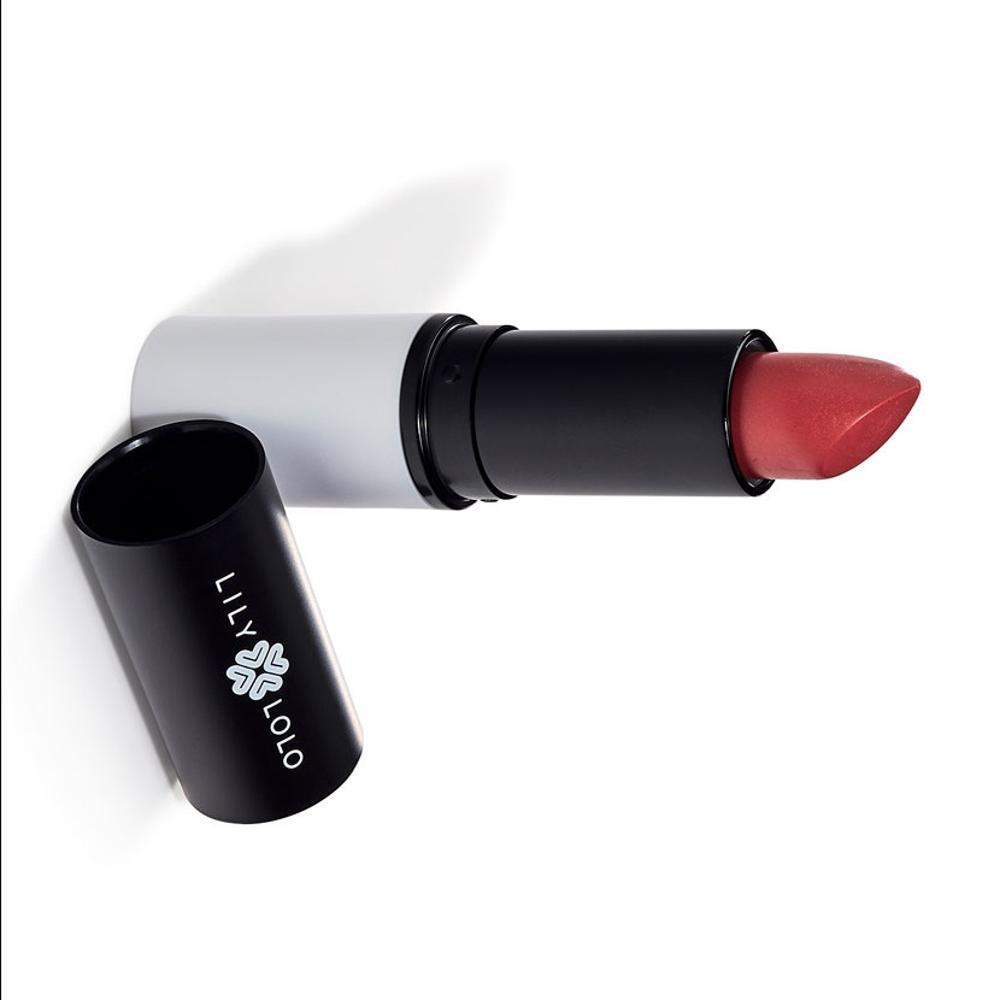lipstick: (98, 268, 938, 537)
